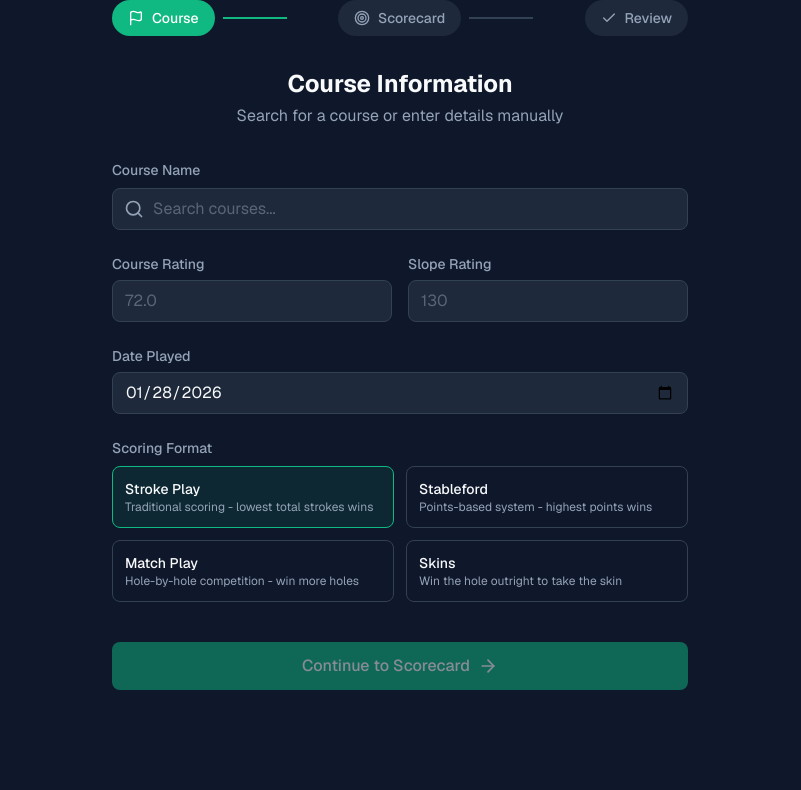
Test: NewRoundPage › should calculate totals correctly
# Navigate to holes step
Step 1. Type "Test Course" into the field with placeholder "Search courses..." → (400, 209), box [112, 188, 688, 230]
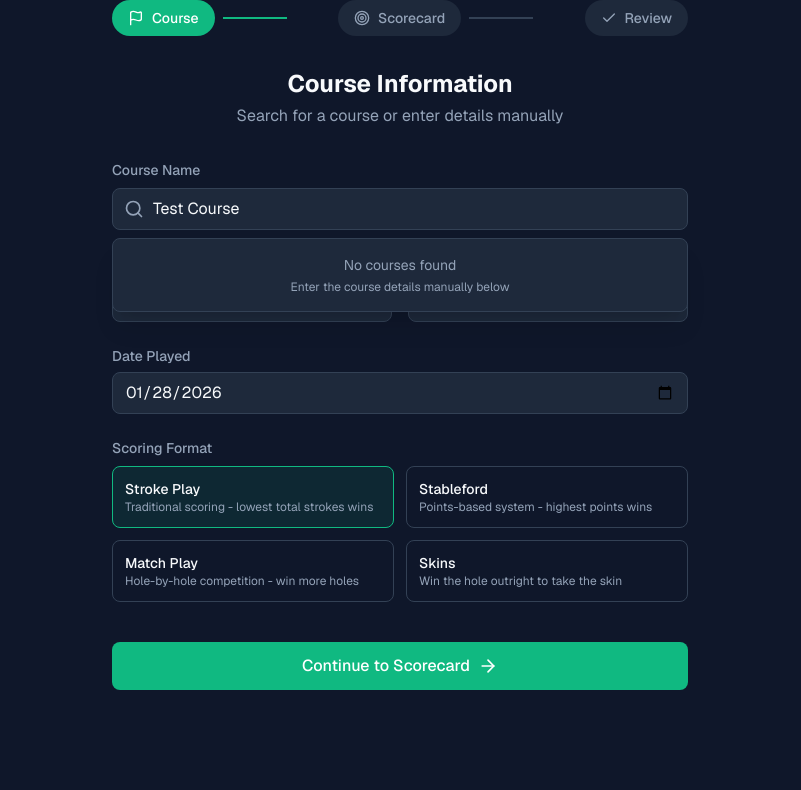
Step 2. Click the button "Continue to Scorecard" → (400, 666), box [112, 642, 688, 690]
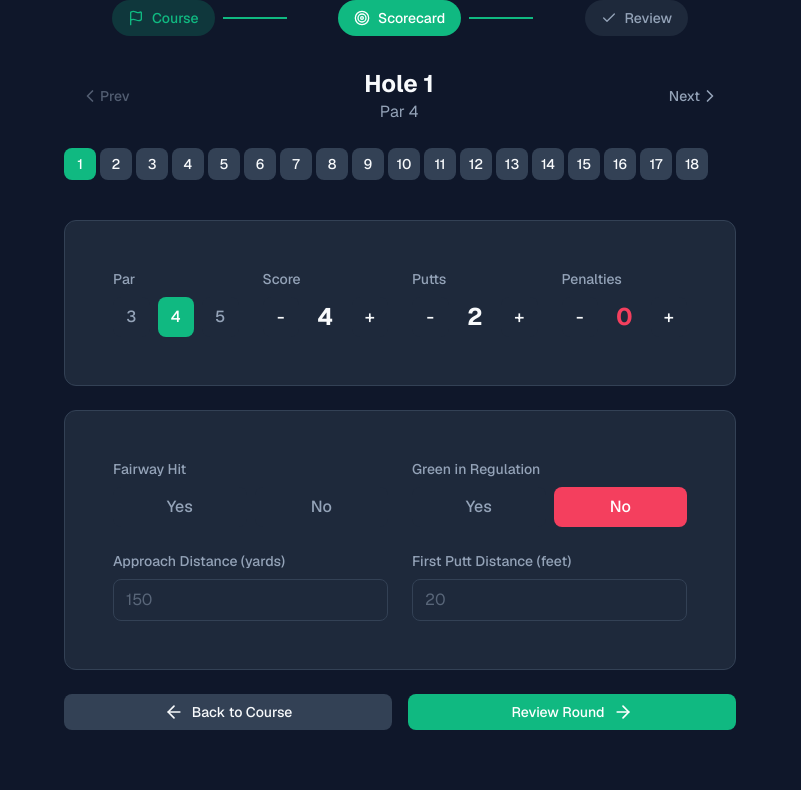
Expected: the heading "Hole 1" is shown, [364, 68, 434, 100]
Expected: the button "Review Round" is shown
Step 3. Click the button "Review Round" → (572, 712), box [408, 694, 736, 730]
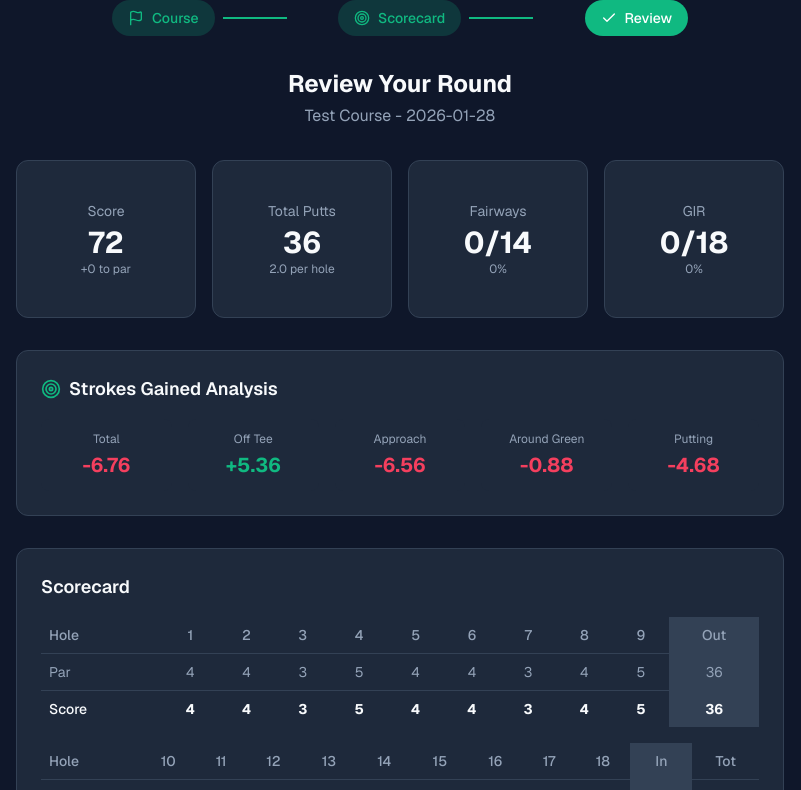
Expected: the heading "Review Your Round" is shown, [288, 68, 512, 99]
